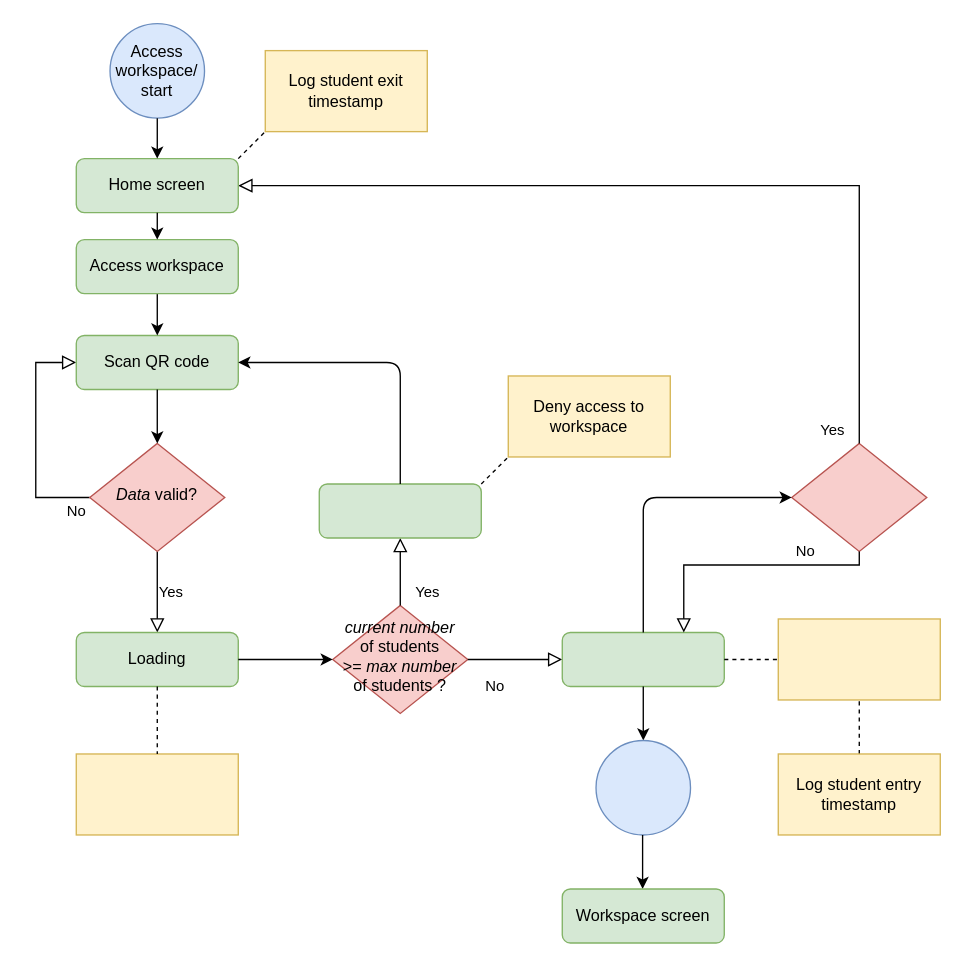
Image size: 964x967. Some labels were removed from this diagram. The centre of each missing label's shape, as x and y in pixels:
"Access workspace/ end" belongs at point (643, 787).
"Check current number of students in workspace" belongs at point (156, 794).
"Display workspace entered information" belongs at point (642, 658).
"Display workspace full information" belongs at point (399, 510).
"Leave workspace ?" belongs at point (858, 496).
"Update current number of students in workspace" belongs at point (858, 659).
